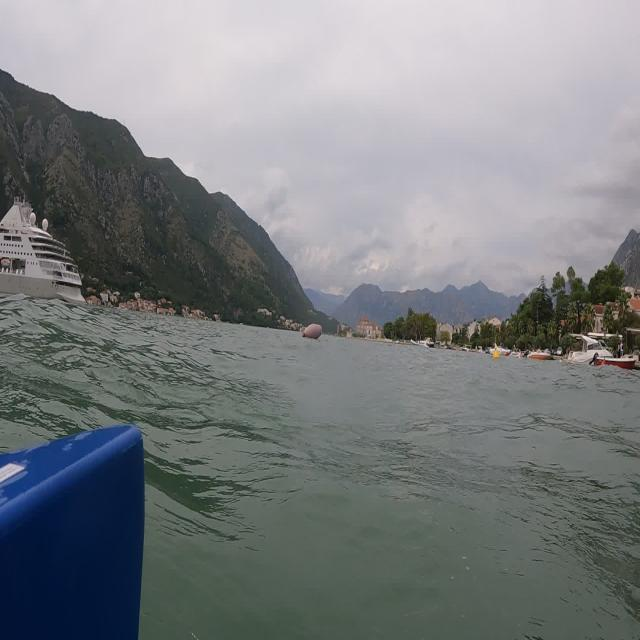boat: (564, 325, 639, 379)
buoy: (1, 189, 88, 310), (300, 315, 329, 349), (492, 344, 502, 366)
